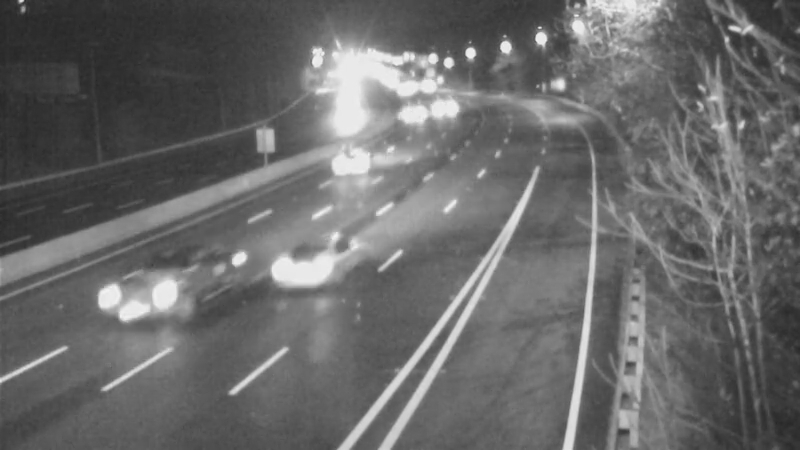vehicle: (313, 123, 393, 203), (265, 222, 345, 302), (95, 258, 175, 338), (400, 60, 450, 110), (378, 64, 428, 114), (423, 81, 473, 131), (389, 89, 439, 139), (320, 77, 370, 127)
